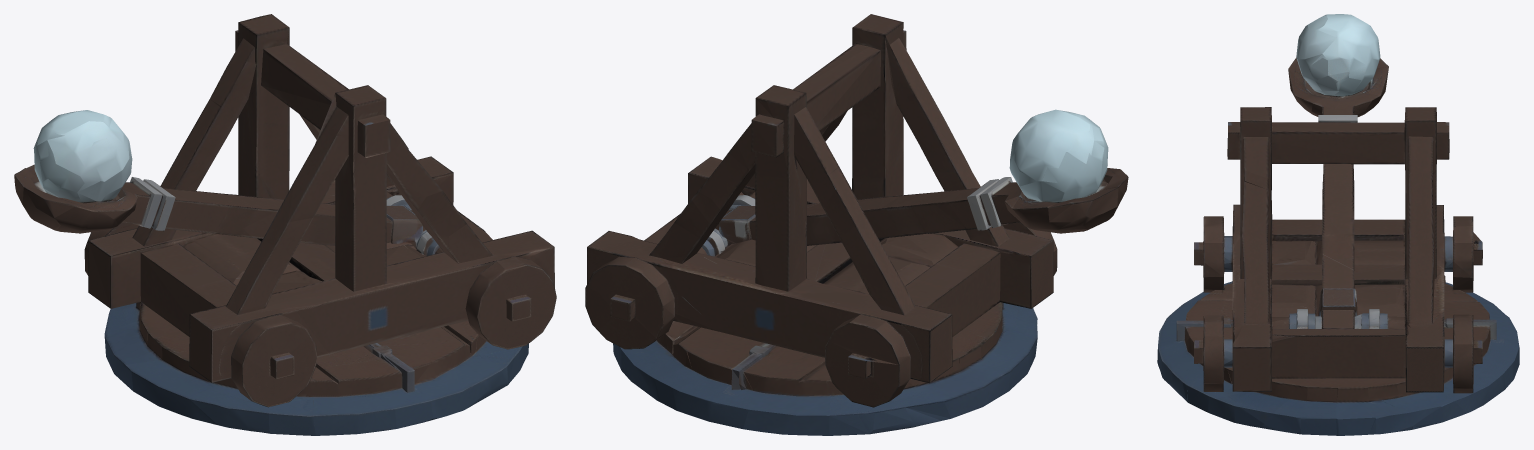
File: turret.glb
3 renders of one model, left to right at view 1: azimuth 30°, elevation 25°; view 2: azimuth 150°, elevation 25°; view 3: azimuth 270°, elevation 25°, orthographic. The views are drawn at different scales.
Bounding box in the file's own units: 1.9 × 1.1 × 1.47.
1 material, 1 textured.
